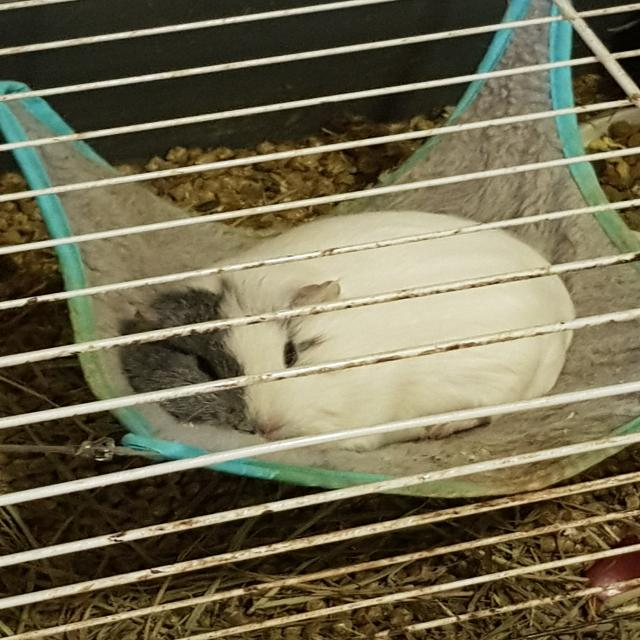guinea pig: (114, 208, 576, 456)
